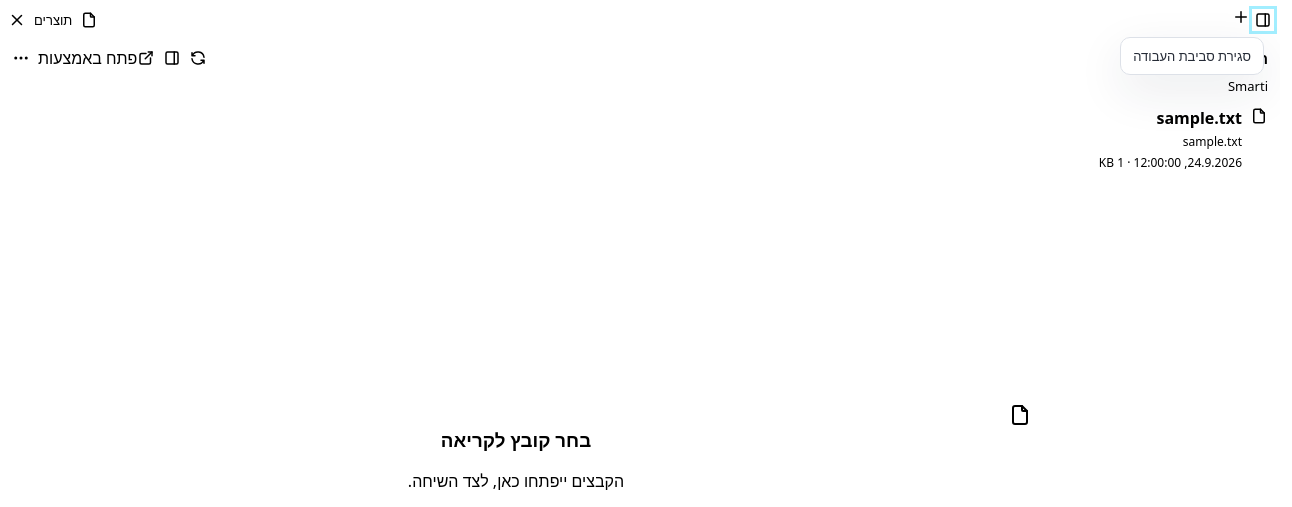
artifacts panel › shows a Rust Open With failure, keeps the selection and retries explicitly without restarting Core
Click the button "sample.txt sample.txt 24.9.2026, 12:00:00 · 1 KB". click: (1160, 139)
box: top-left (1040, 95), bottom-right (1280, 183)
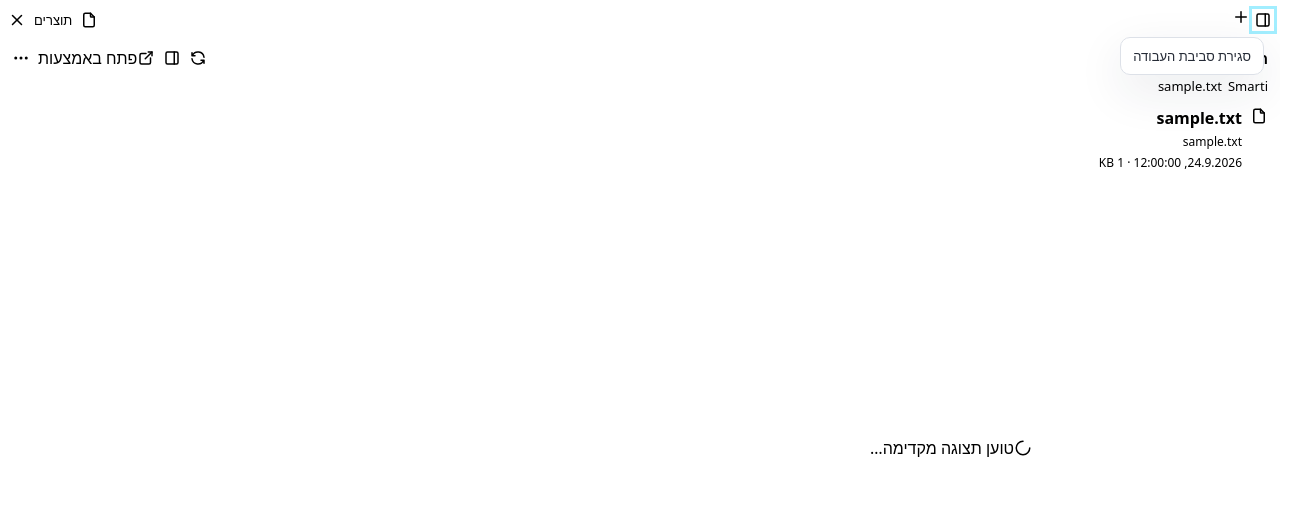
Click the button "פתח באמצעות". click: (97, 58)
box: top-left (38, 47), bottom-right (155, 69)
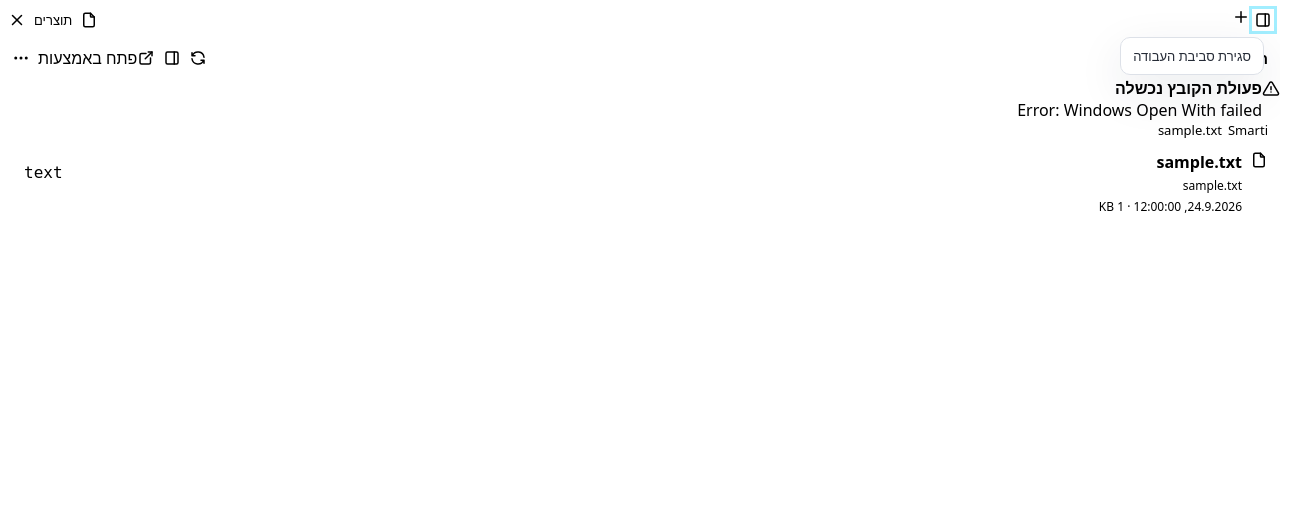
expect the message shows "Windows Open With failed": met, box top-left (1017, 99), bottom-right (1262, 121)
expect the text "text" is shown: met, box top-left (24, 163), bottom-right (62, 182)
Click the button "פתח באמצעות". click: (97, 58)
box: top-left (38, 47), bottom-right (155, 69)
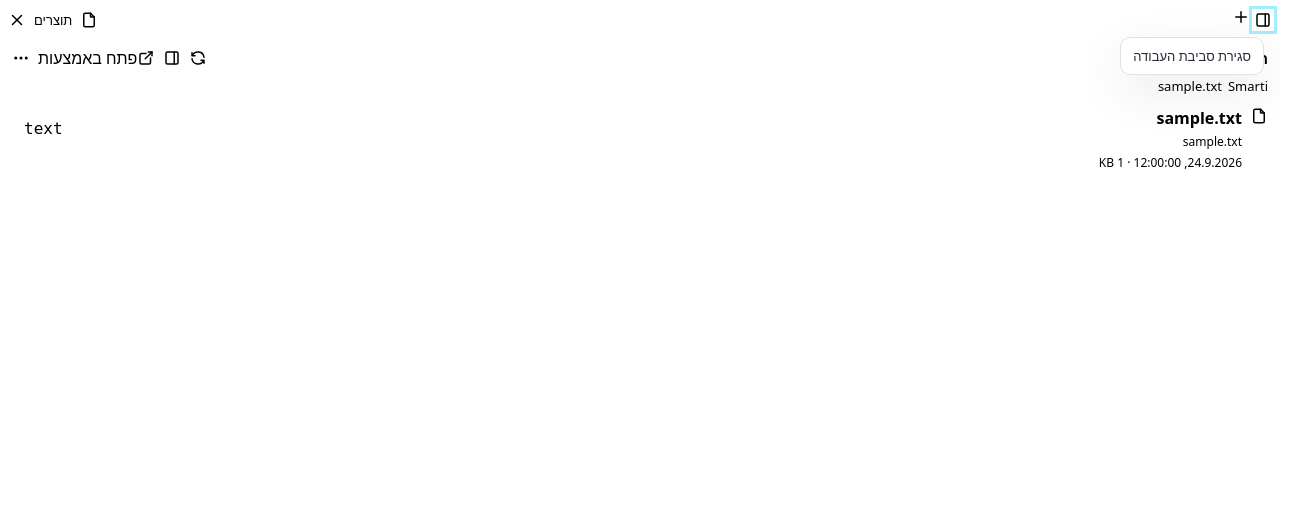
expect the message "פעולת הקובץ נכשלה Error: Windows Open With failed" is gone: met
